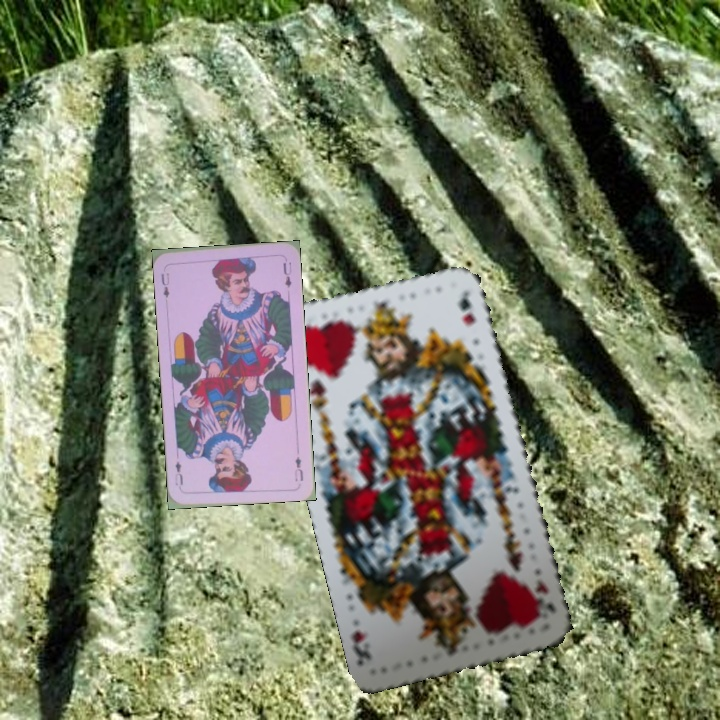EU: (291, 452, 306, 484), (157, 269, 172, 300)
HK: (526, 576, 559, 616)
